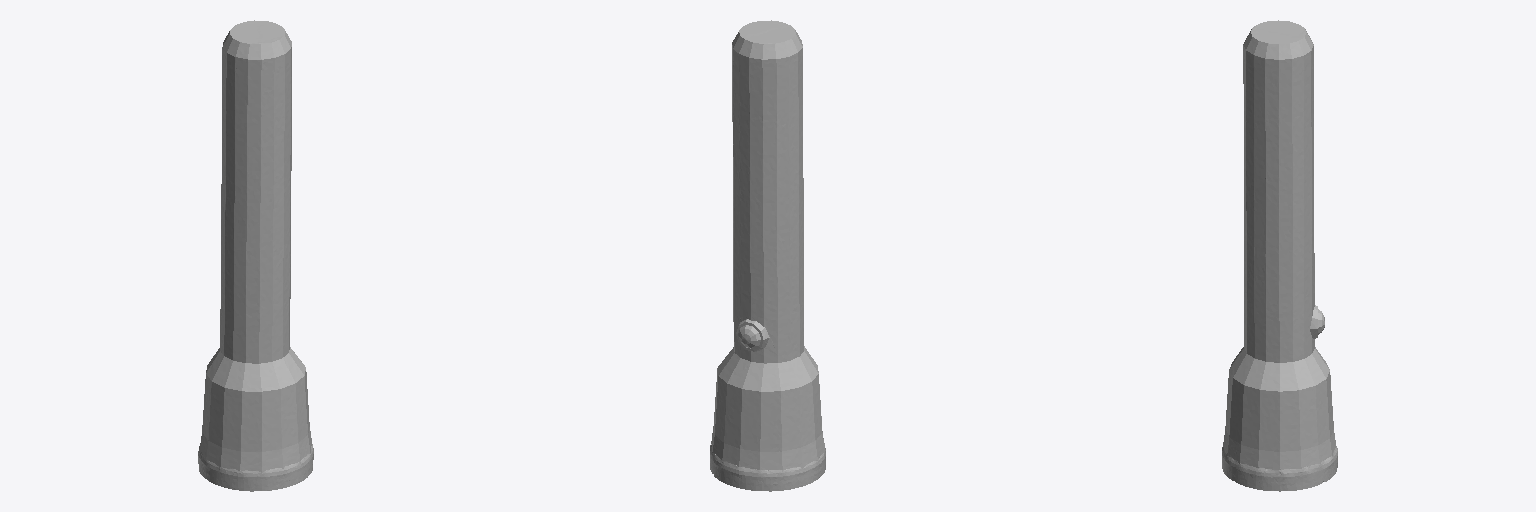
robot.urdf — root:
<robot name="root">
  <link name="link_001">
    <visual>
      <origin xyz="0 0 0" rpy="0 0 0"/>
      <geometry>
        <mesh filename="flashlight.obj" scale="1.5000E+00 1.5000E+00 1.5000E+00"/>
      </geometry>
      <material name="">
        <color rgba="7.50E-01 7.50E-01 7.50E-01 1"/>
      </material>
    </visual>
    <collision>
      <origin xyz="0 0 0" rpy="0 0 0"/>
      <geometry>
        <mesh filename="flashlight.obj" scale="1.5000E+00 1.5000E+00 1.5000E+00"/>
      </geometry>
    </collision>
    <inertial>
      <mass value="0.16"/> <!-- 质量：0.1kg -->
    </inertial>
  </link>
</robot>

--- What the picture shows (computed from the rendered views, not written in the file) ---
Views: 3 orthographic renders of the robot side by side, from view 1: azimuth 30°, elevation 25°; view 2: azimuth 150°, elevation 25°; view 3: azimuth 270°, elevation 25°.
Model root with 1 links and 0 joints (none), rooted at link_001, posed all joints at 0.
Visible links, largest first — view 1: link_001; view 2: link_001; view 3: link_001.
Link boxes in pixels (<box>): link_001: <box>198,20,313,491</box>; link_001: <box>710,20,825,491</box>; link_001: <box>1222,20,1337,491</box>.
Size in the robot's own frame: 0.0506 by 0.0506 by 0.2085 metres.
1 mesh visuals loaded from 1 distinct referenced files (1 OBJ).
